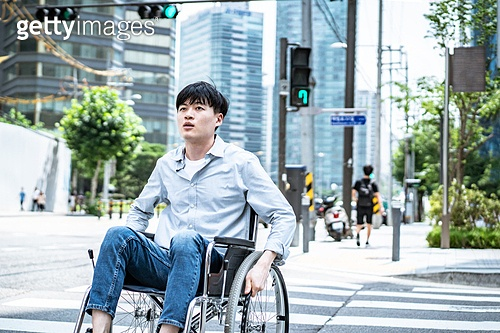wheelchair: (73, 81, 297, 333)
